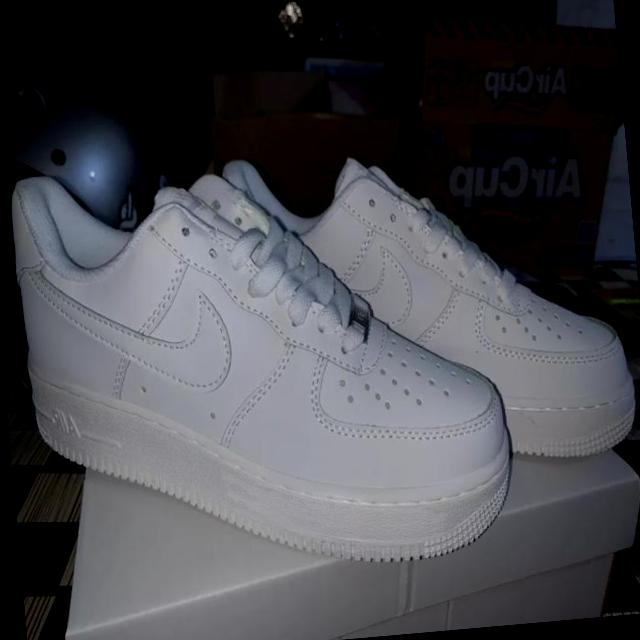nike_fake_airforce: (0, 137, 521, 596), (264, 135, 640, 485)
